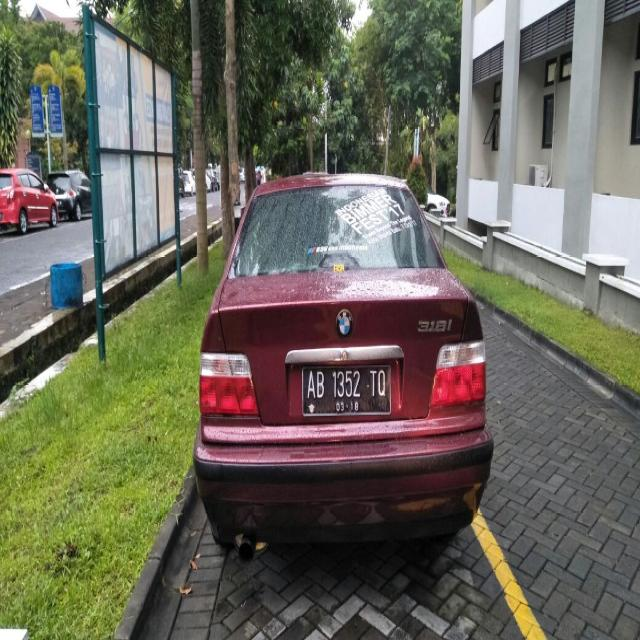plate: (302, 363, 392, 416)
